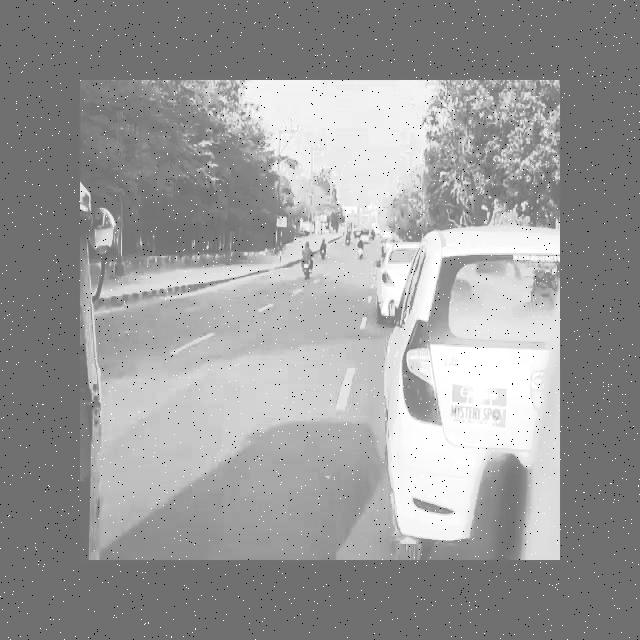Car: (387, 235, 563, 537), (374, 232, 408, 318)
